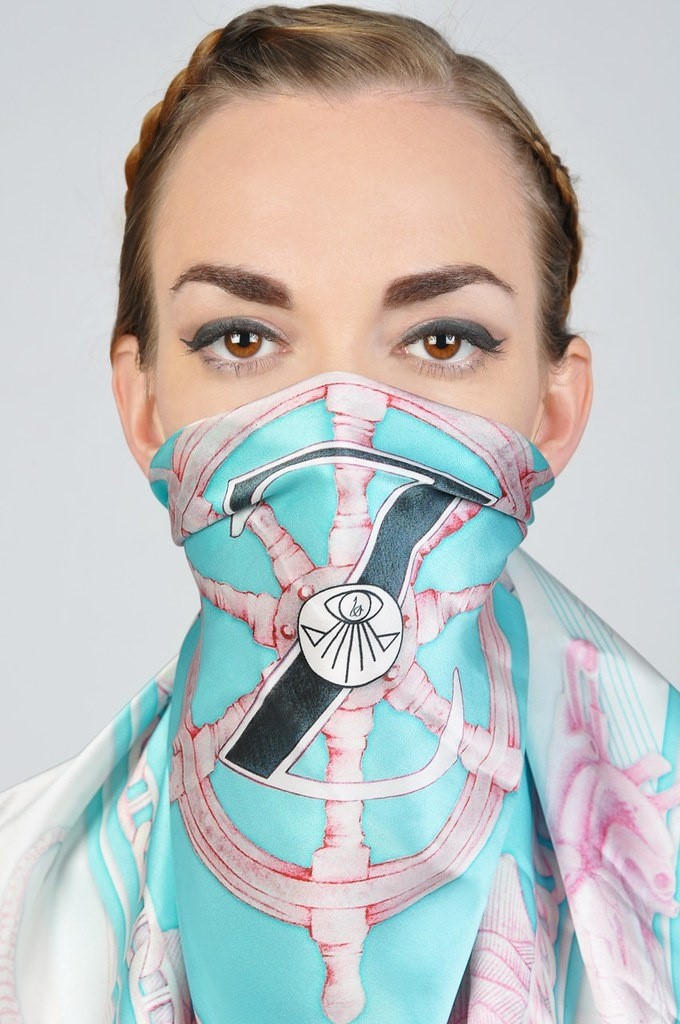face_with_mask: (128, 52, 589, 684)
